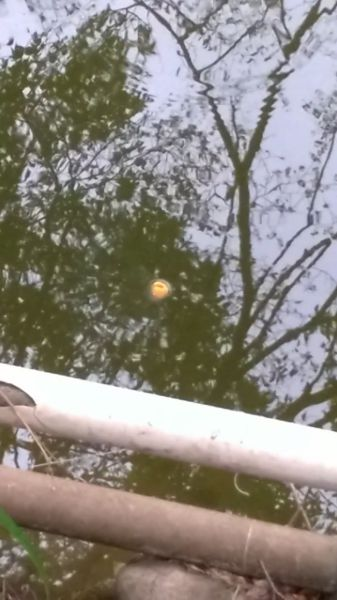eggs: (147, 275, 173, 302)
